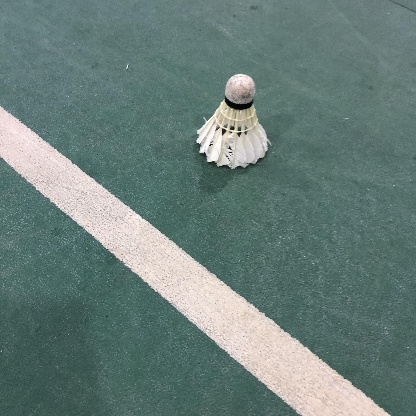ball_single: (196, 74, 268, 169)
